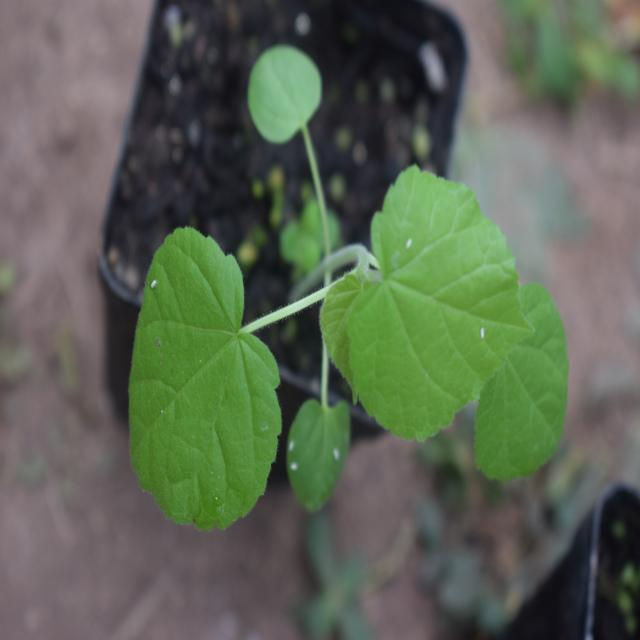abutilon theophrasti: (110, 141, 568, 542)
